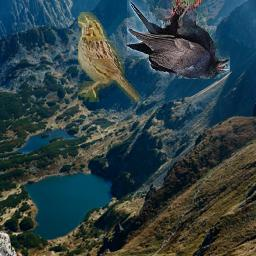Crow: (128, 1, 231, 80)
Sparrow: (78, 12, 140, 102)
